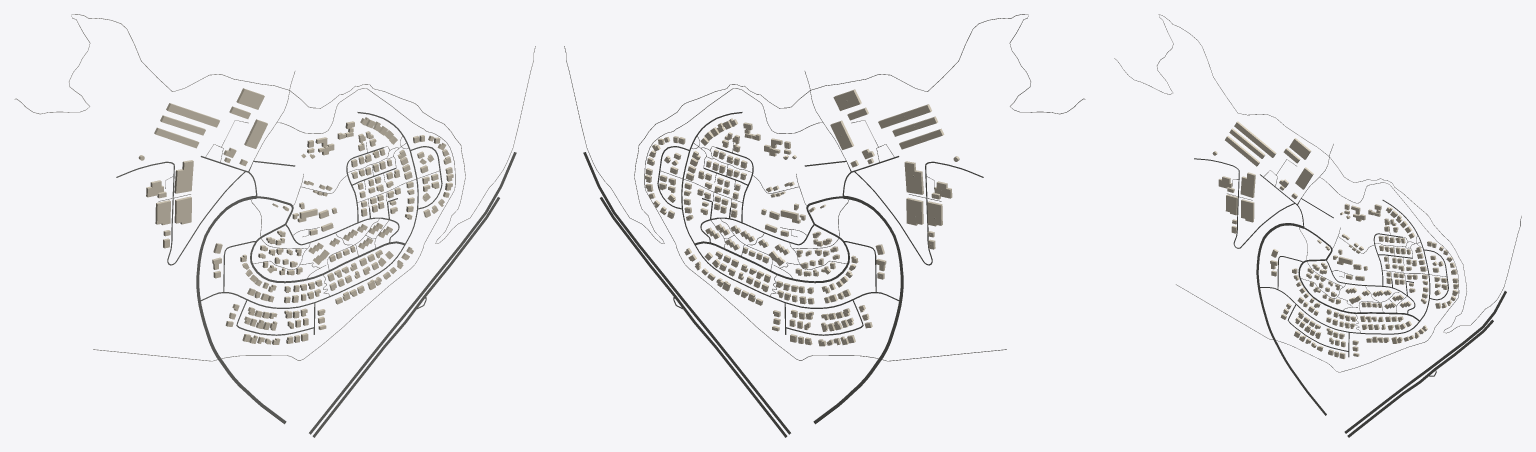
The model's file is historic-palestine-10_33_3524_3278.glb.
3 renders of one model, left to right at view 1: azimuth 30°, elevation 25°; view 2: azimuth 150°, elevation 25°; view 3: azimuth 330°, elevation 25°, orthographic. The views are drawn at different scales.
Parts seen in each view (by area): view 1: Road 784, Road .004, Road 7917, Road 784.001, Road .012, Road Derekh HaAgam, Road Yuval, Building_.210; view 2: Road 784, Road .004, Road 7917, Road 784.001, Road .012, Road Derekh HaAgam, Road Yuval, Building_.210; view 3: Road .004, Road 784, Road 7917, Road 784.001, Road .012, Road Derekh HaAgam.
Boxes of the visible parts, x1,y1,x2,y2 form: Road 784: (309, 152, 516, 434); Road .004: (14, 14, 535, 243); Road 7917: (196, 195, 286, 424); Road 784.001: (312, 197, 499, 437); Road .012: (93, 88, 455, 361); Road Derekh HaAgam: (201, 112, 418, 308); Road Yuval: (250, 224, 405, 283); Building_.210: (174, 160, 193, 193); Road 784: (583, 152, 790, 434); Road .004: (564, 14, 1085, 243); Road 7917: (813, 195, 903, 424); Road 784.001: (600, 197, 787, 437); Road .012: (644, 88, 1006, 361); Road Derekh HaAgam: (681, 112, 898, 308); Road Yuval: (694, 224, 849, 283); Building_.210: (904, 161, 923, 194); Road .004: (1114, 14, 1521, 333); Road 784: (1344, 291, 1506, 433); Road 7917: (1256, 223, 1326, 415); Road 784.001: (1347, 319, 1493, 437); Road .012: (1176, 177, 1459, 372); Road Derekh HaAgam: (1260, 200, 1430, 334).
Bounding box in the file's own units: 1398 × 1237 × 9.09.
